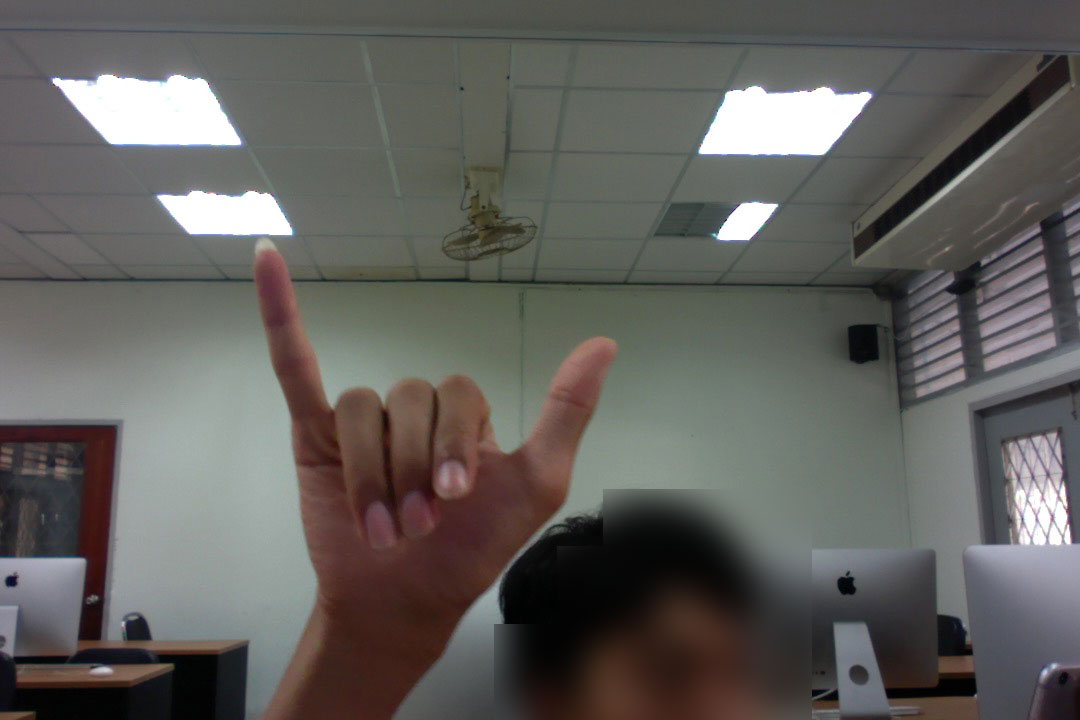yor: (241, 227, 625, 640)
